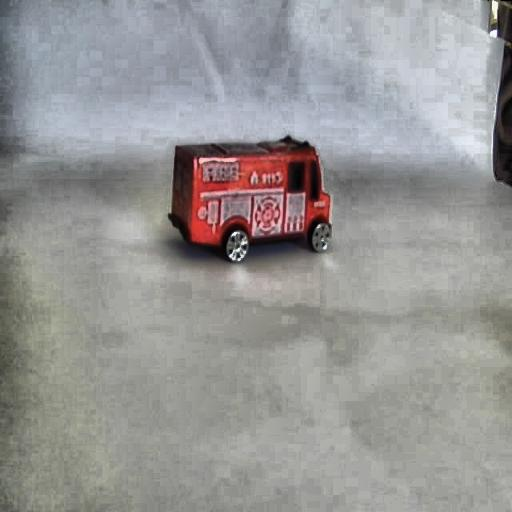fire_truck: (173, 144, 334, 258)
